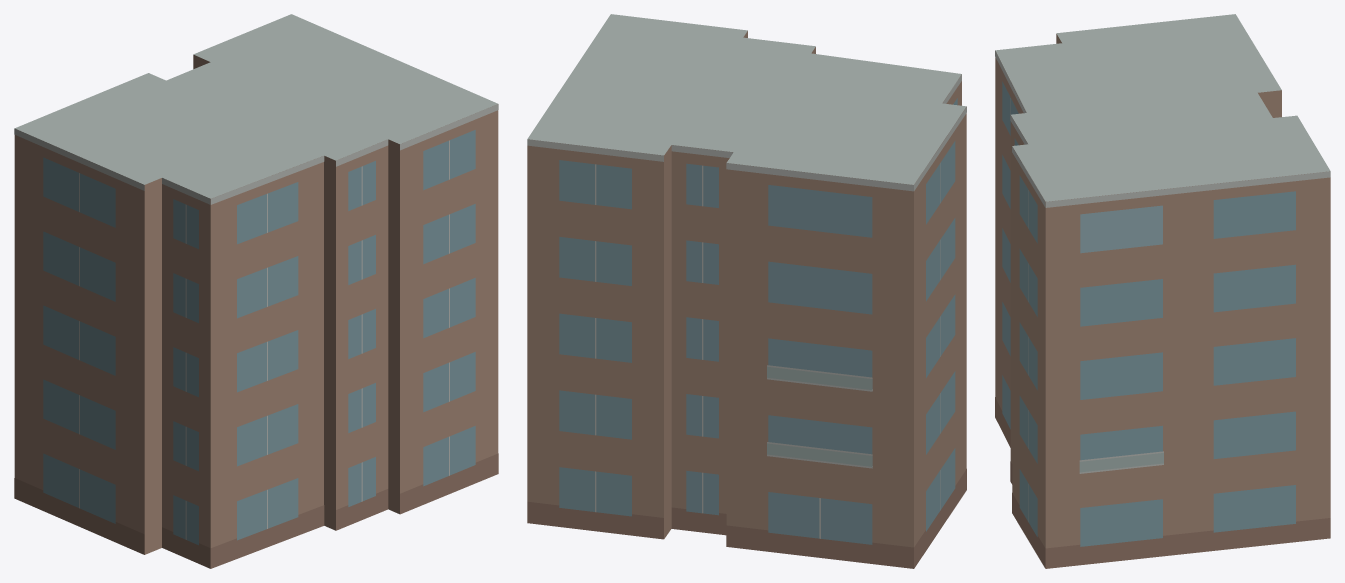
The model's file is survey-upis-32592915.glb.
3 views of the same model, side by side, from view 1: azimuth 30°, elevation 25°; view 2: azimuth 150°, elevation 25°; view 3: azimuth 270°, elevation 25° (orthographic). The views are drawn at different scales.
Parts seen in each view (by area): view 1: survey-upis-32592915.tmp; view 2: survey-upis-32592915.tmp; view 3: survey-upis-32592915.tmp.
Boxes of the visible parts, <box> form: survey-upis-32592915.tmp: <box>14,14,498,568</box>; survey-upis-32592915.tmp: <box>527,14,966,568</box>; survey-upis-32592915.tmp: <box>995,14,1330,568</box>.
Size of the model in its own units: 15.98 by 14.55 by 12.06.
